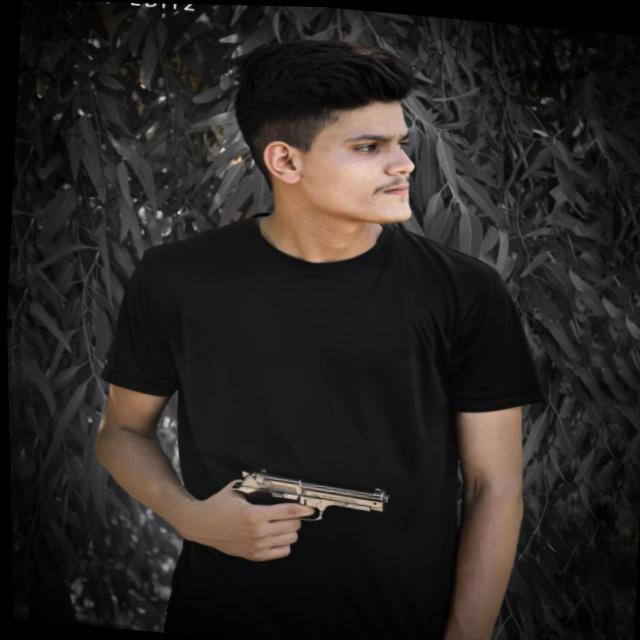weapon: (215, 458, 394, 570)
